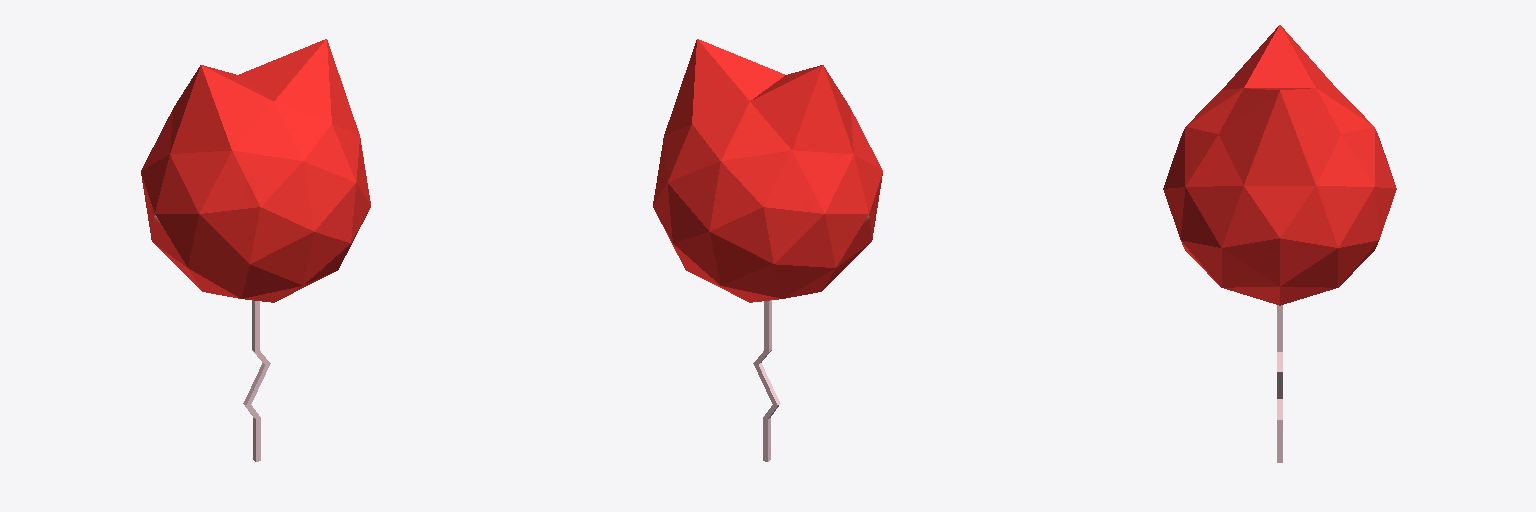
The picture shows the model from 3 angles: view 1: azimuth 30°, elevation 25°; view 2: azimuth 150°, elevation 25°; view 3: azimuth 270°, elevation 25°; orthographic projection.
Parts seen in each view (by area): view 1: ICO球; view 2: ICO球; view 3: ICO球.
Part boxes in pixels (x1,y1,x2,y2): ICO球: (141,39,370,461); ICO球: (653,39,882,461); ICO球: (1163,25,1396,462).
Size of the model in its own units: 0.8 by 1.55 by 0.8.
Materials: 1 (1 with a texture image).